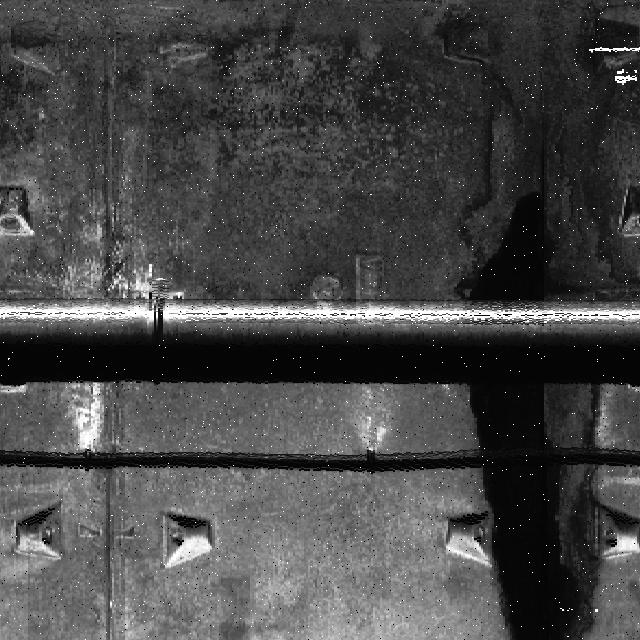leakage: (454, 3, 640, 633)
